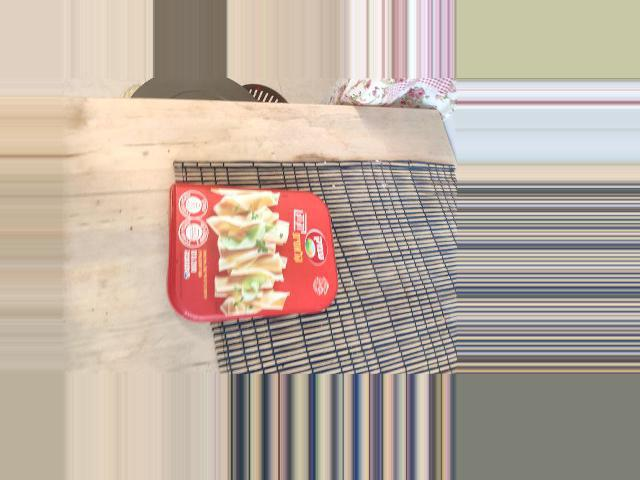cheese: (267, 197, 395, 379)
